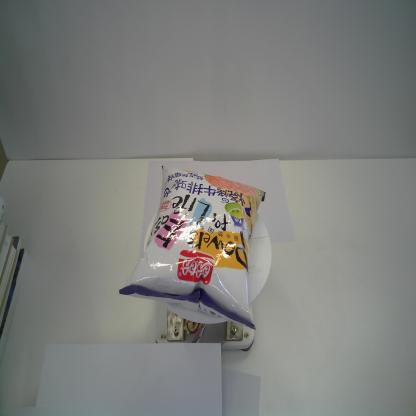Puffed Food: (116, 160, 267, 333)
